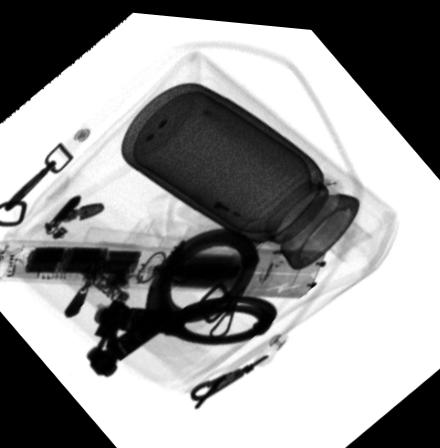Baton: (0, 237, 325, 292)
HandCuffs: (84, 218, 278, 376)
